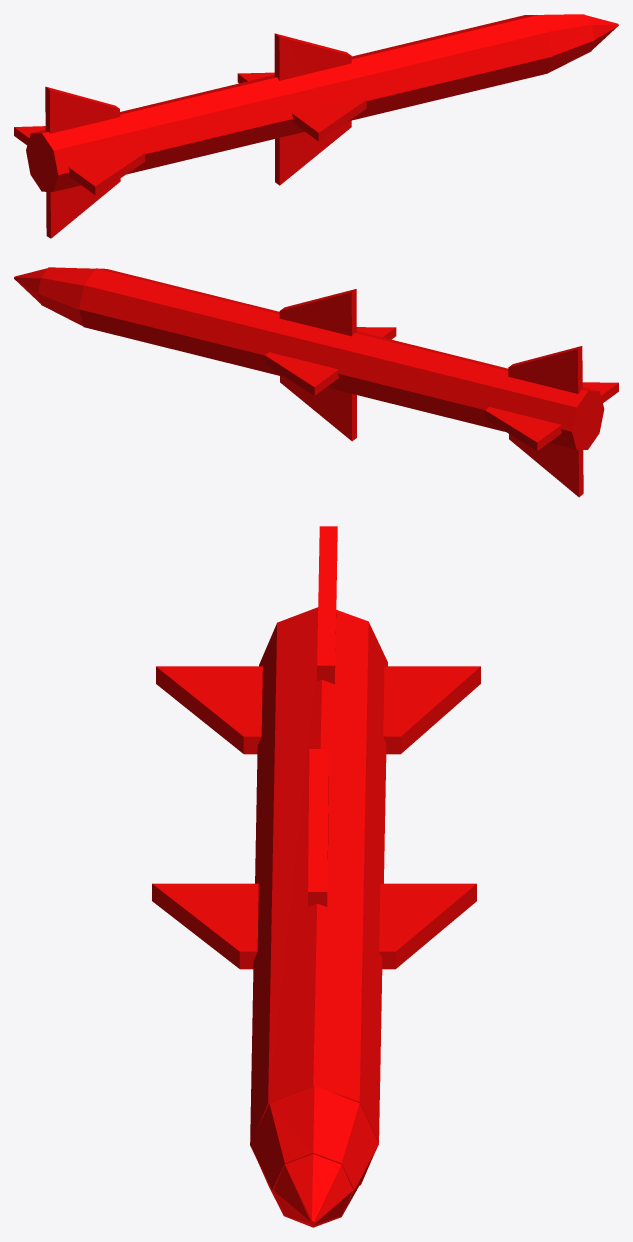
Rendered from rocket.glb.
3 renders of one model, top to bottom at view 1: azimuth 30°, elevation 25°; view 2: azimuth 150°, elevation 25°; view 3: azimuth 270°, elevation 25°, orthographic. The views are drawn at different scales.
Visible parts, largest first — view 1: rocket; view 2: rocket; view 3: rocket.
Boxes of the visible parts, x1,y1,x2,y2 form: rocket: (14,14,618,238); rocket: (14,267,618,497); rocket: (152,526,480,1227).
Size of the model in its own units: 92.94 by 23.11 by 23.07.
Materials: 1 (1 with a texture image).
